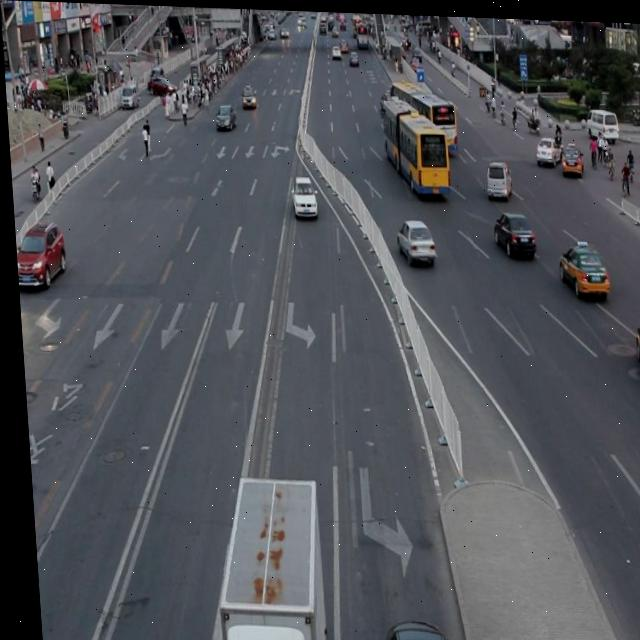bus: (204, 470, 319, 640)
car: (11, 219, 64, 288), (553, 237, 604, 293), (371, 614, 447, 640), (489, 206, 531, 252), (392, 214, 431, 259), (288, 173, 315, 216), (628, 309, 640, 372)
